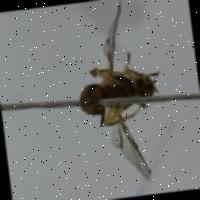Oriental-fruit-fly: (63, 0, 177, 194)
